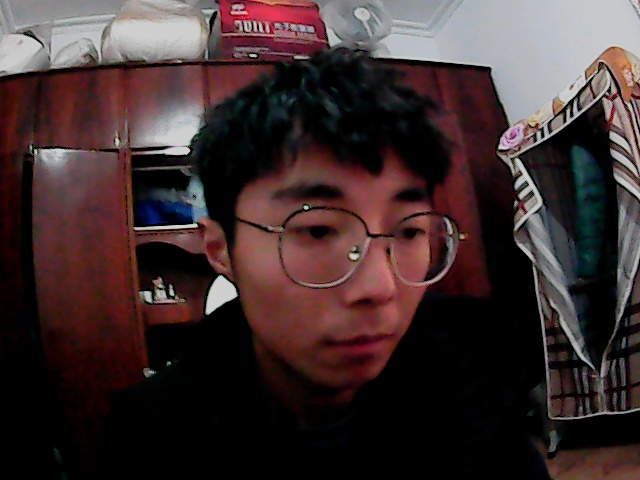face: (176, 53, 507, 399)
